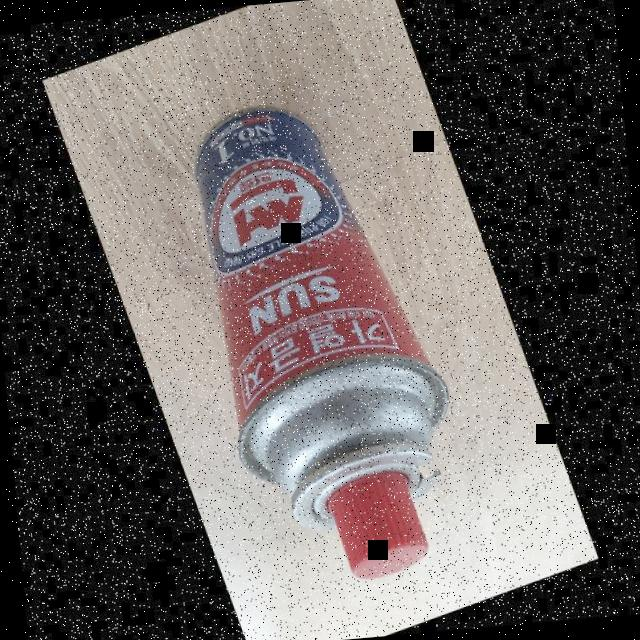chemical_spray_can: (107, 43, 517, 639)
